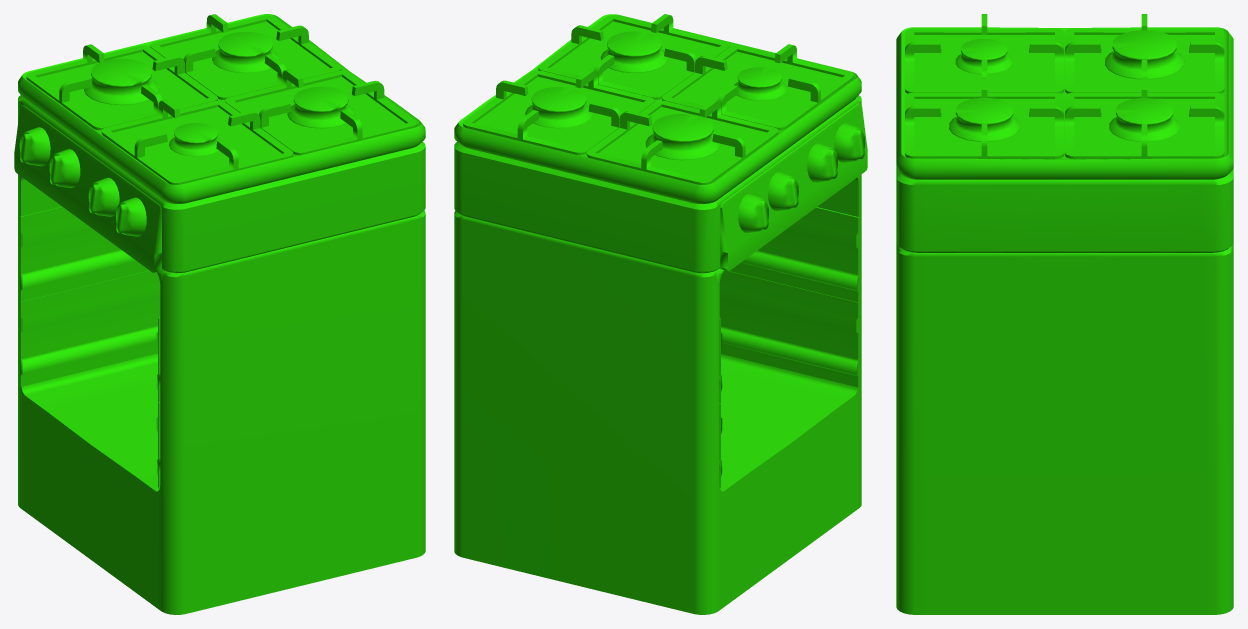
File: Gas_Stove_01_Lod0.fbx
3 renders of one model, left to right at view 1: azimuth 30°, elevation 25°; view 2: azimuth 150°, elevation 25°; view 3: azimuth 270°, elevation 25°, orthographic. The views are drawn at different scales.
Visible parts, largest first — view 1: Gas_Stove_01_Lod0; view 2: Gas_Stove_01_Lod0; view 3: Gas_Stove_01_Lod0.
Boxes of the visible parts, x1,y1,x2,y2 form: Gas_Stove_01_Lod0: [14, 14, 425, 614]; Gas_Stove_01_Lod0: [454, 14, 867, 614]; Gas_Stove_01_Lod0: [896, 14, 1233, 614].
Size of the model in its own units: 62.88 by 93.72 by 60.66.
